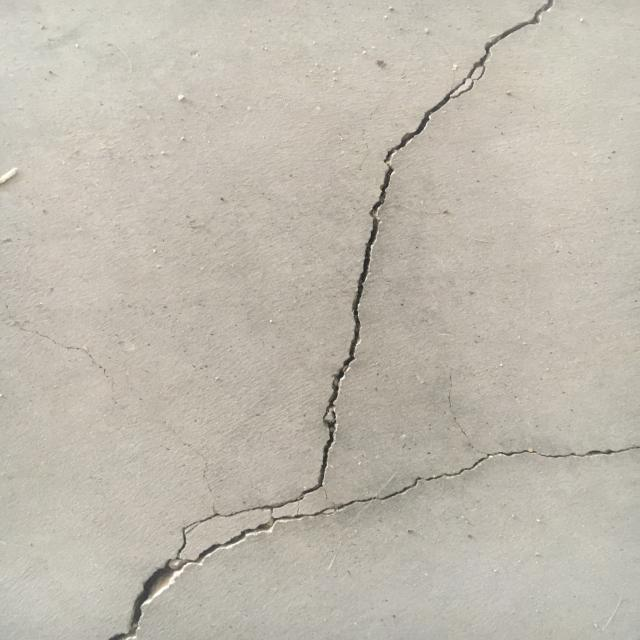Rachadura: (106, 0, 640, 640)
